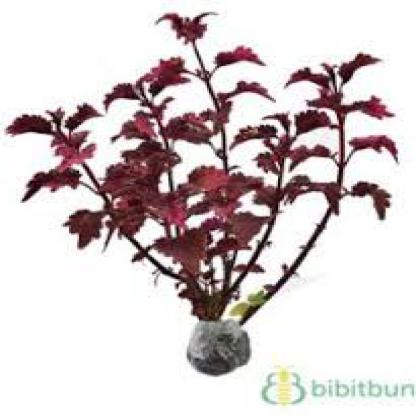Bunga Coleus: (9, 13, 381, 302)
